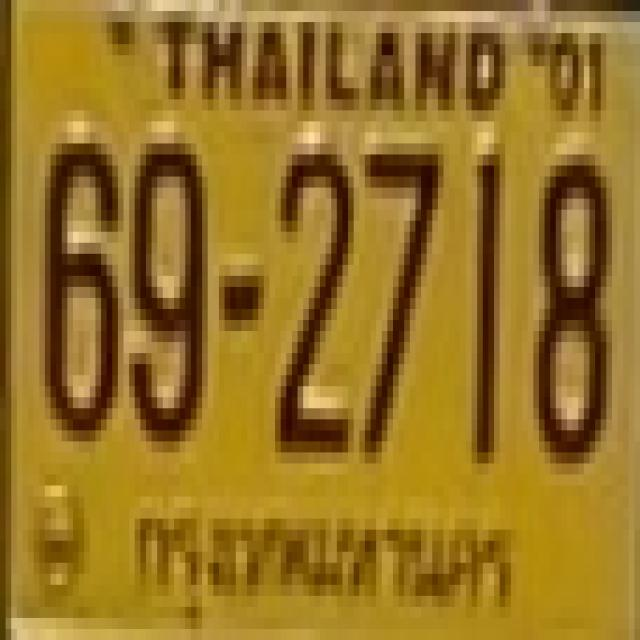1: (469, 149, 497, 458)
2: (275, 138, 348, 447)
6: (40, 132, 112, 430)
7: (359, 144, 438, 452)
8: (528, 144, 606, 452)
9: (129, 132, 202, 442)
BKK: (121, 494, 525, 640)
